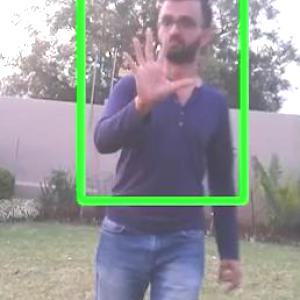follow_hand: (118, 19, 198, 109)
